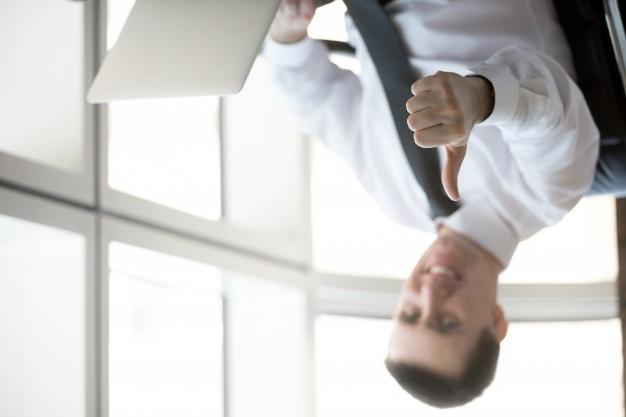thumbsdown: (405, 71, 465, 202)
